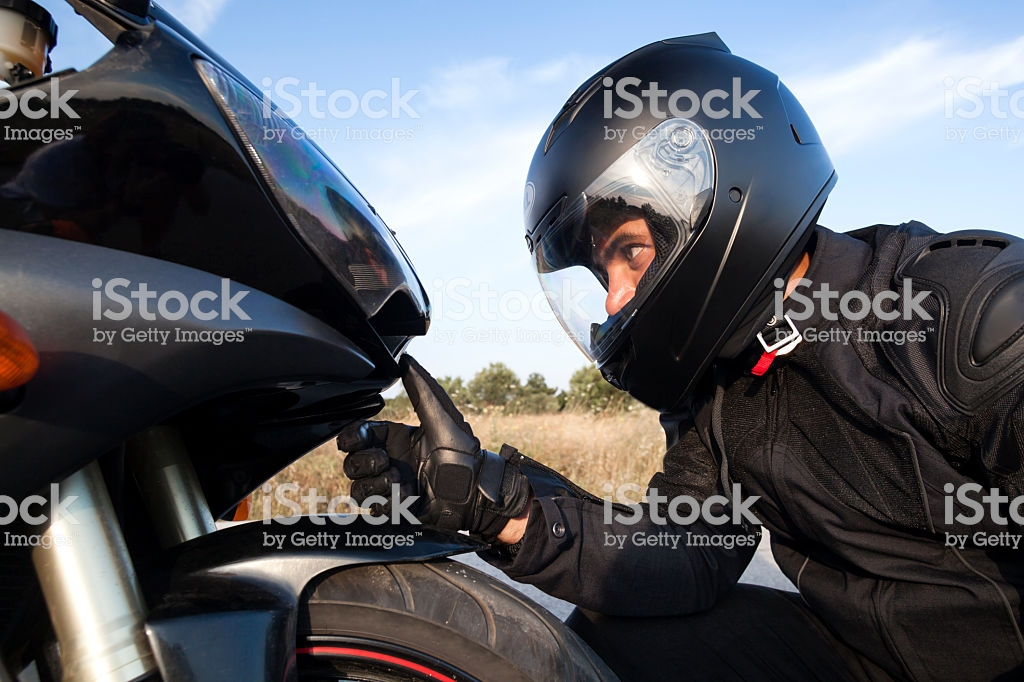helmet: (529, 52, 831, 401)
